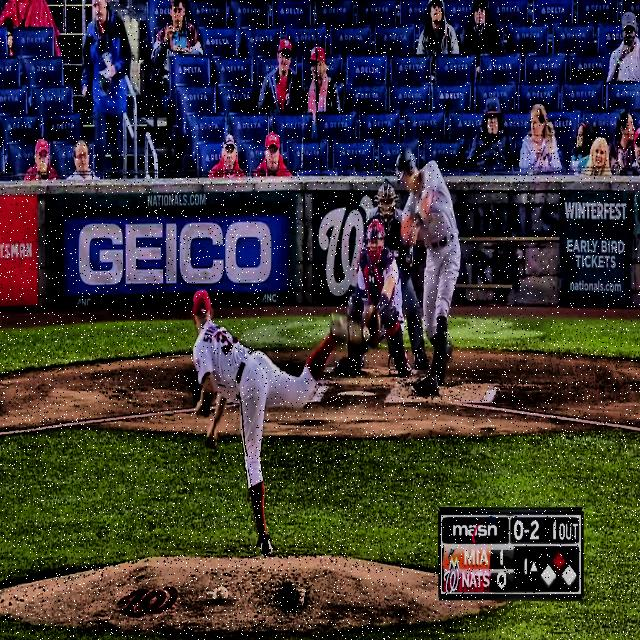baseball: (362, 325, 371, 344)
